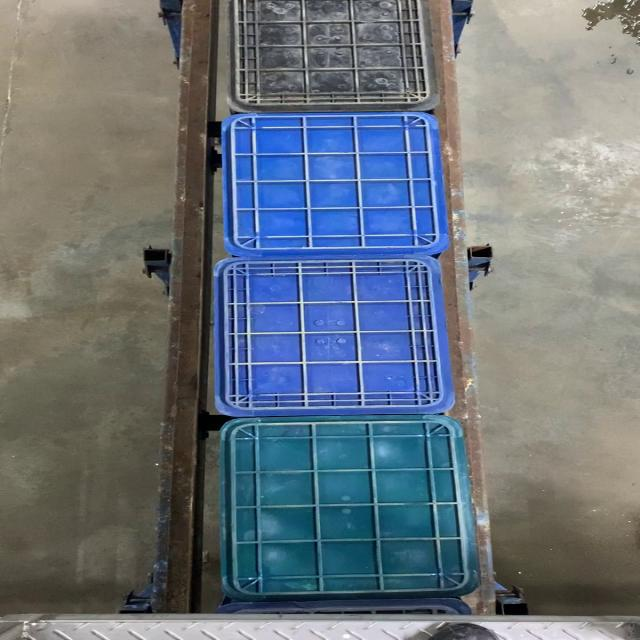Box: (210, 416, 484, 602), (210, 258, 450, 416), (216, 110, 448, 255)
